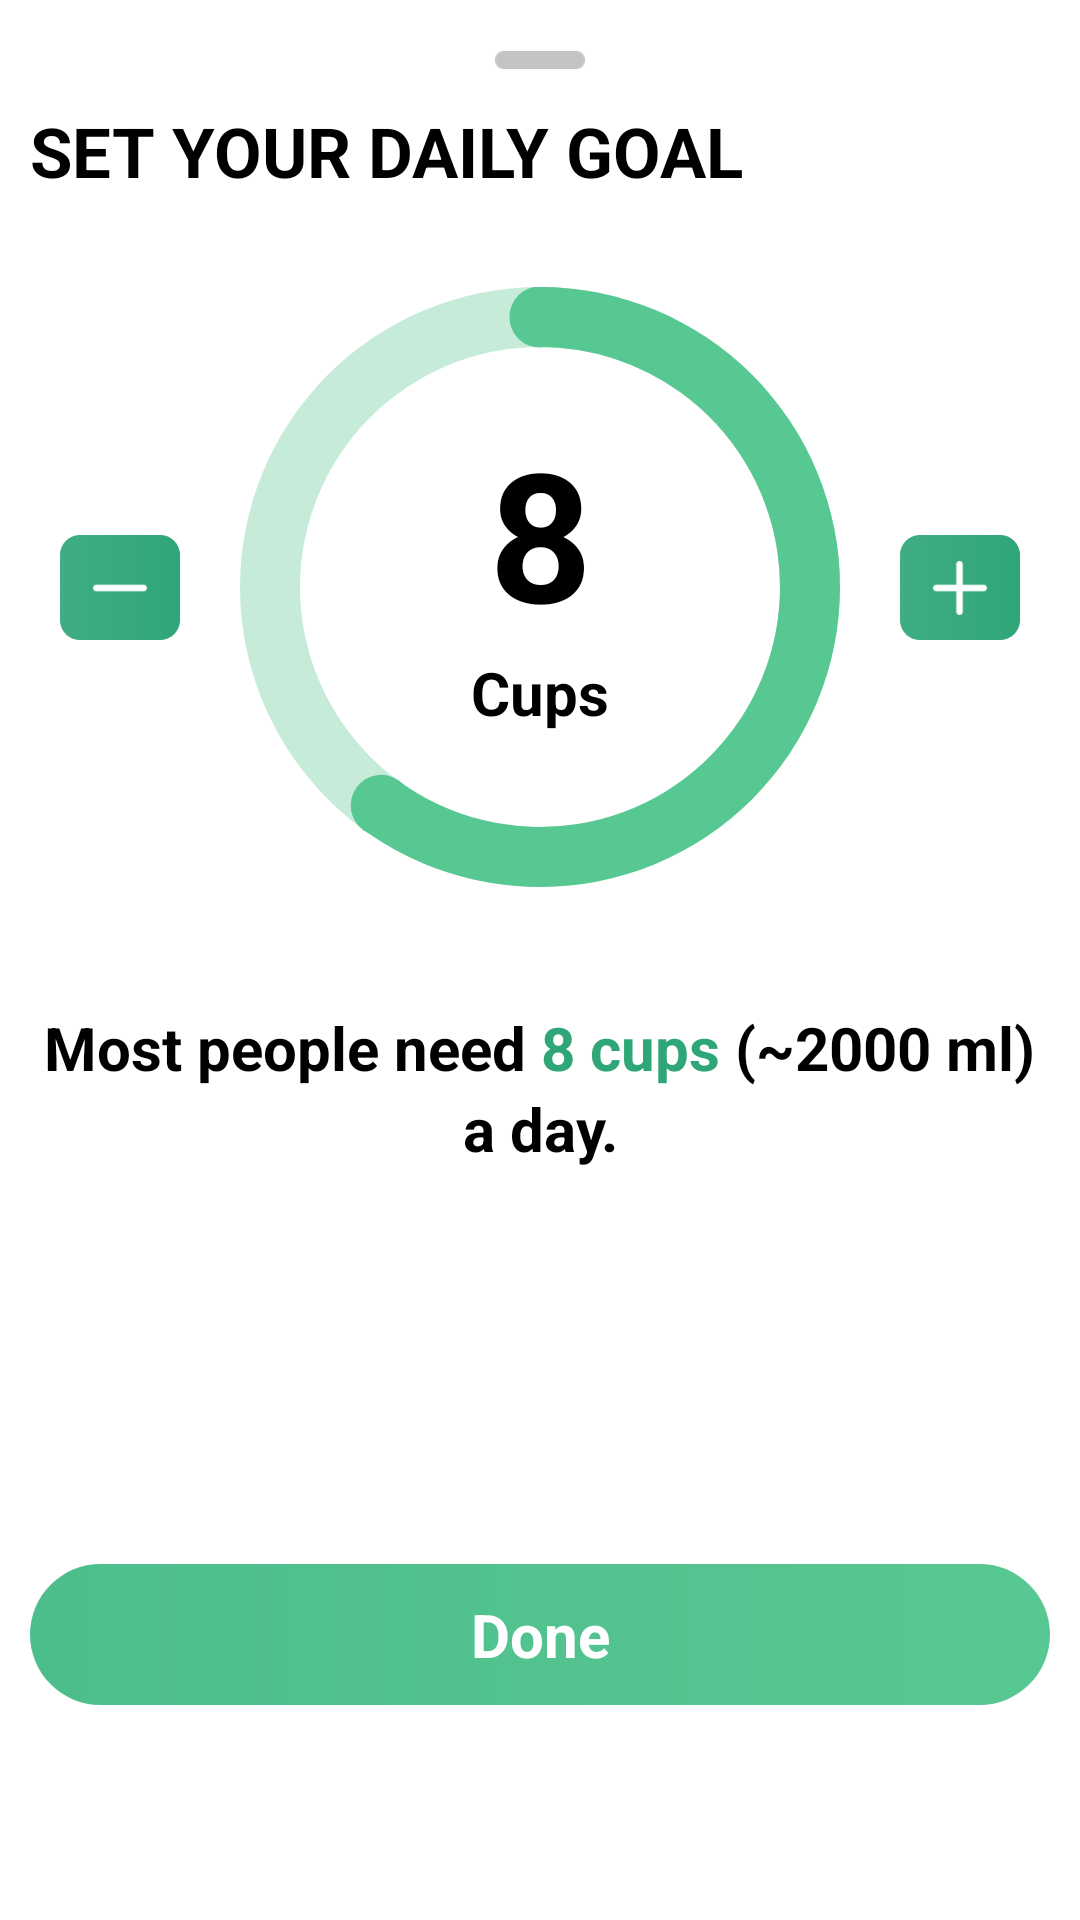

Named icons in this screenshot (1080x1920) and their centers, (x,y):
minus anim: (120,587)
plus button: (960,587)
